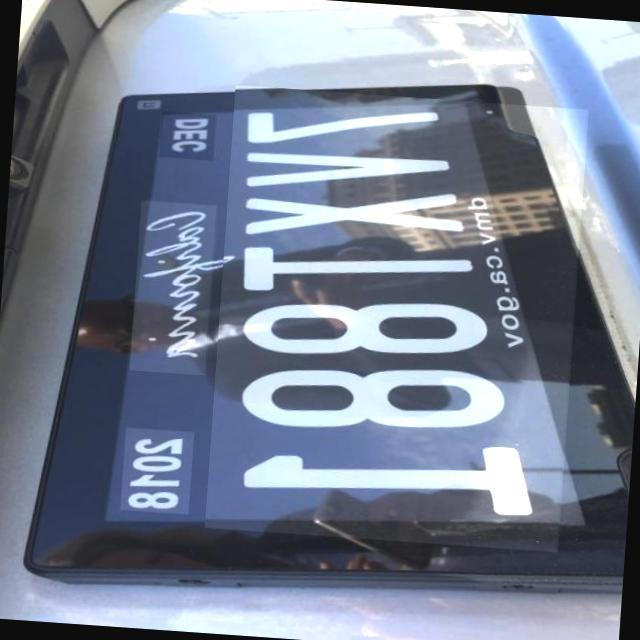Plat: (17, 71, 640, 593)
